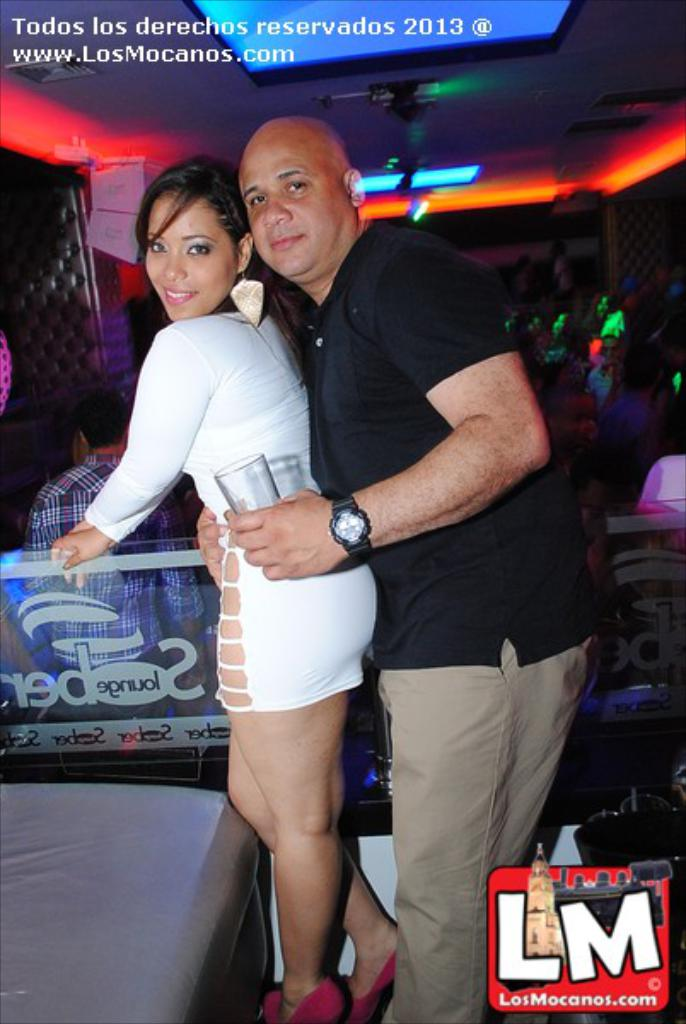Footwear: (343, 949, 396, 1022), (261, 980, 343, 1022)
